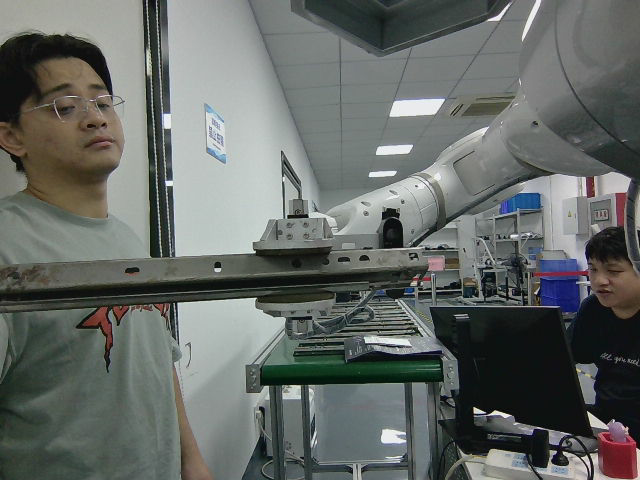right: (0, 245, 429, 311)
